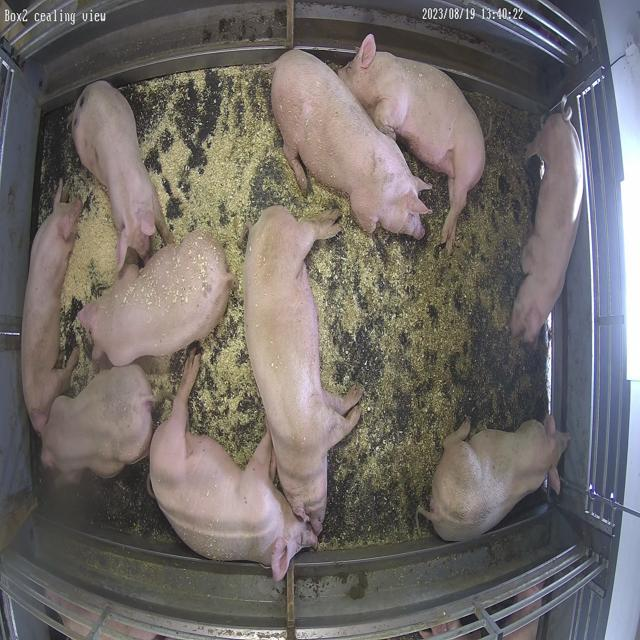Dirt: (321, 92, 548, 549)
Pig: (244, 206, 362, 536), (149, 353, 317, 584), (339, 33, 486, 252), (272, 49, 431, 238), (78, 230, 233, 366), (420, 417, 571, 542), (72, 81, 170, 266), (512, 106, 584, 344), (22, 182, 82, 432), (41, 365, 154, 480)
